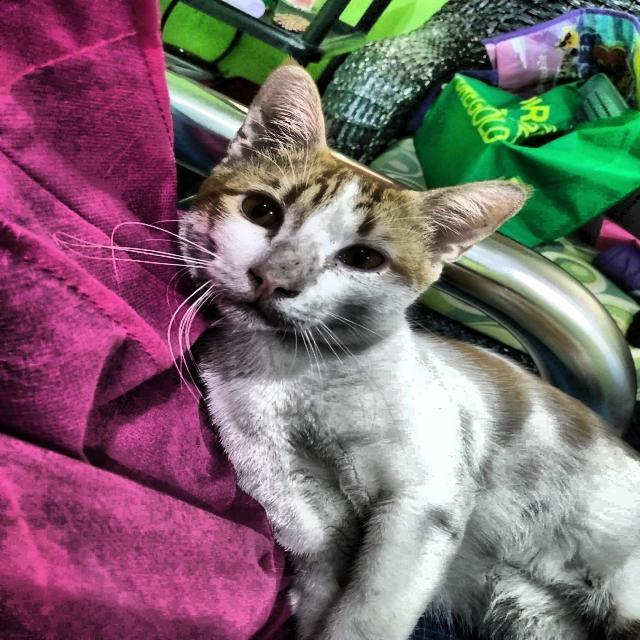Healthy skin: (202, 65, 377, 202), (253, 286, 406, 421)
